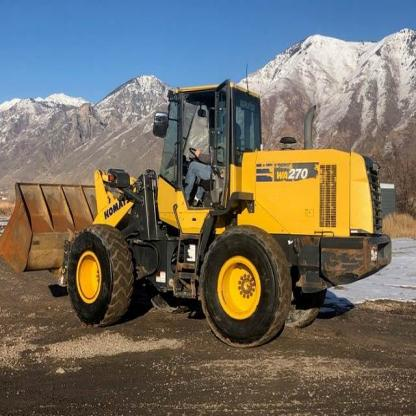bull_dozer/loader/grader: (5, 76, 399, 353)
